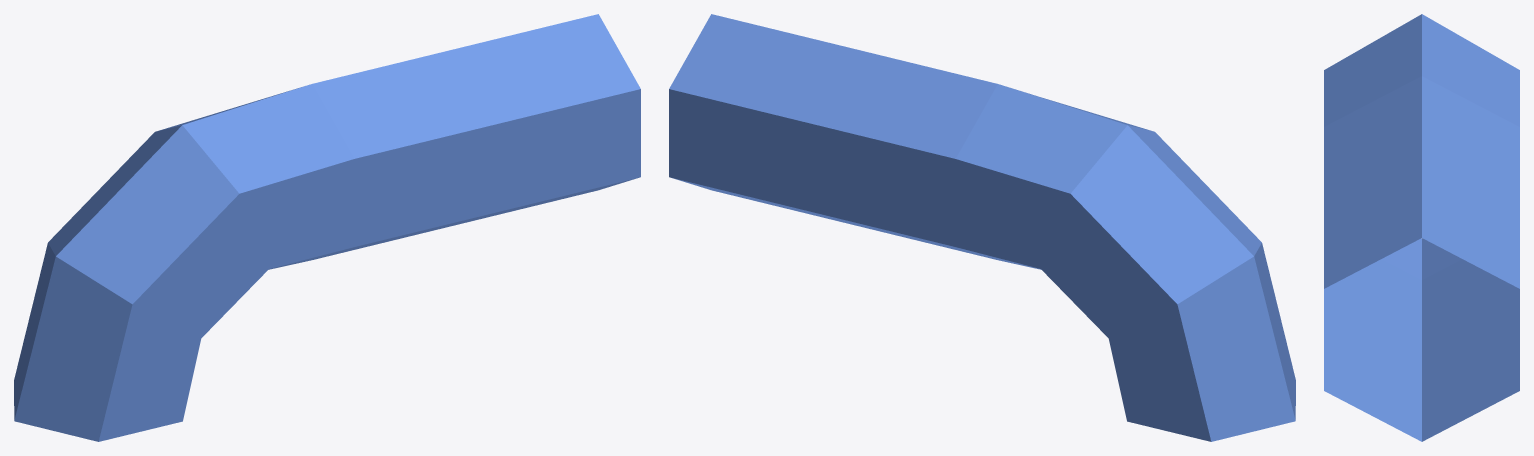
The model's file is pipehook.fbx.
The picture shows the model from 3 angles, left to right: view 1: azimuth 30°, elevation 25°; view 2: azimuth 150°, elevation 25°; view 3: azimuth 270°, elevation 25°; orthographic projection. The views are drawn at different scales.
Visible parts, largest first — view 1: Cylinder.002; view 2: Cylinder.002; view 3: Cylinder.002.
Part boxes in pixels (x1,y1,x2,y2): Cylinder.002: (14,14,640,441); Cylinder.002: (669,14,1295,441); Cylinder.002: (1324,14,1519,441).
Size of the model in its own units: 178 by 77.15 by 44.66.
